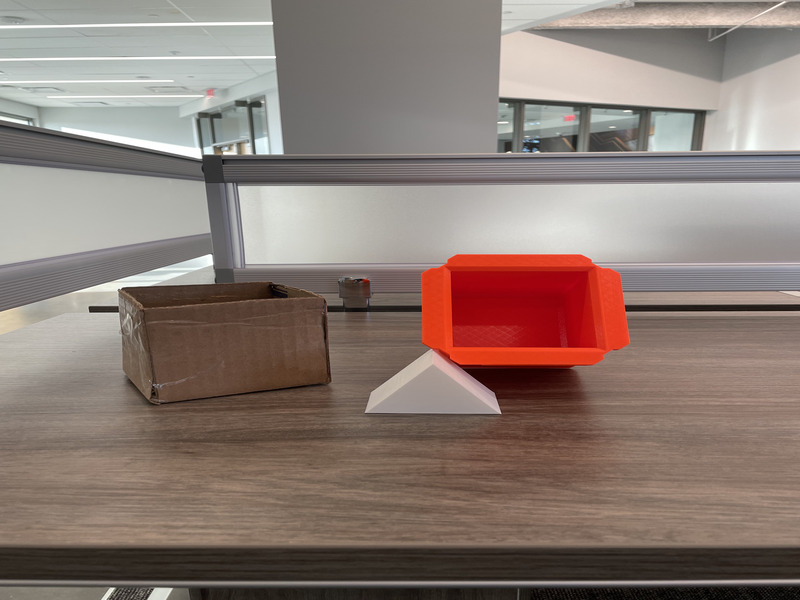payload1: (419, 250, 634, 370)
payload2: (361, 345, 507, 425)
payload3: (112, 277, 340, 412)
